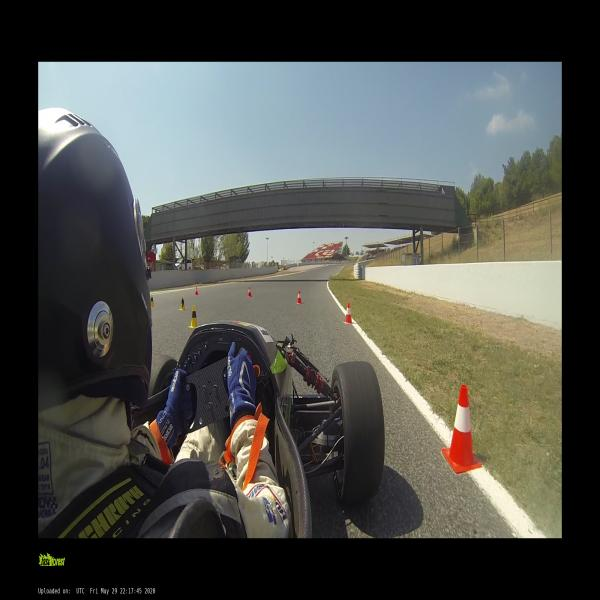orange_cone: (442, 384, 480, 472), (343, 302, 353, 323), (296, 291, 302, 304), (248, 287, 252, 297), (195, 287, 198, 295)
yellow_cone: (189, 305, 199, 328), (180, 296, 186, 310), (150, 294, 155, 308)
